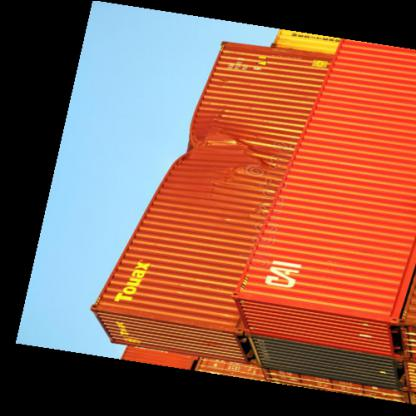Damage: (181, 119, 266, 197)
